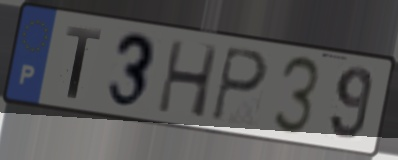3: (104, 29, 163, 113), (271, 53, 322, 138)
9: (327, 64, 376, 143)
H: (154, 37, 222, 121)
P: (209, 44, 270, 124)
T: (64, 23, 104, 102)
